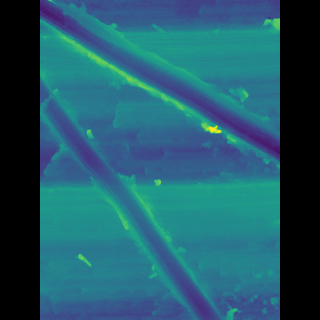Loch: (69, 65, 208, 319), (68, 0, 250, 167)
